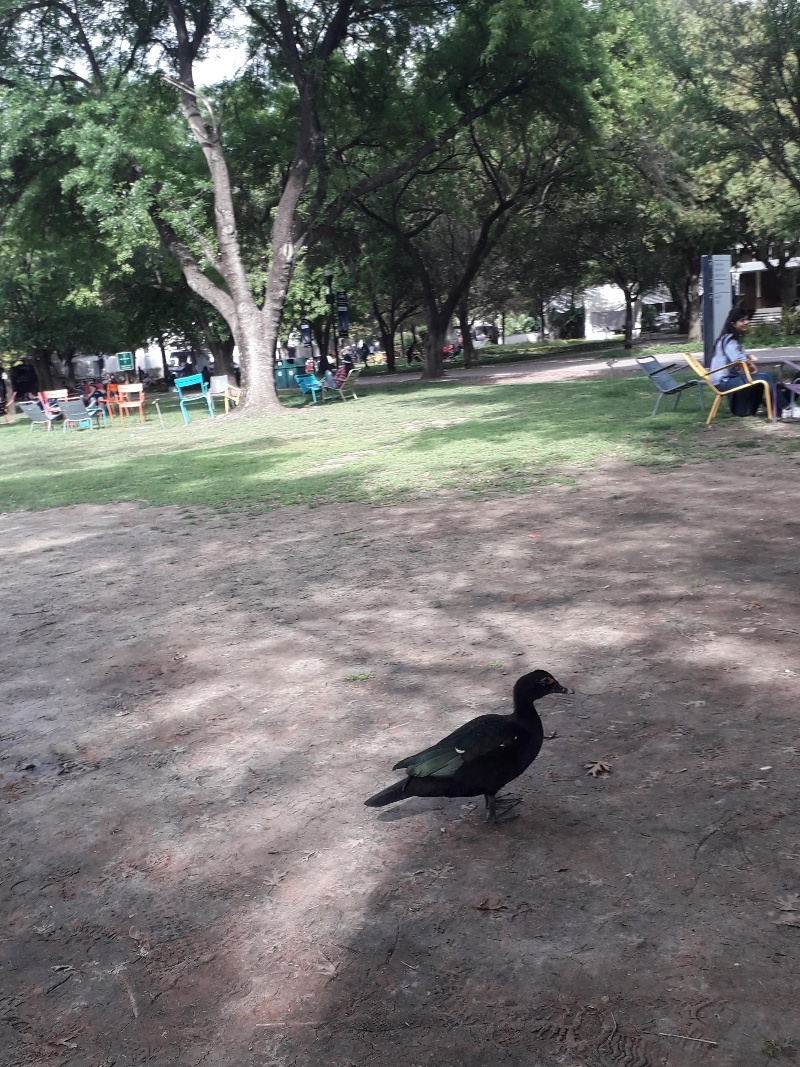pato: (362, 664, 573, 827)
